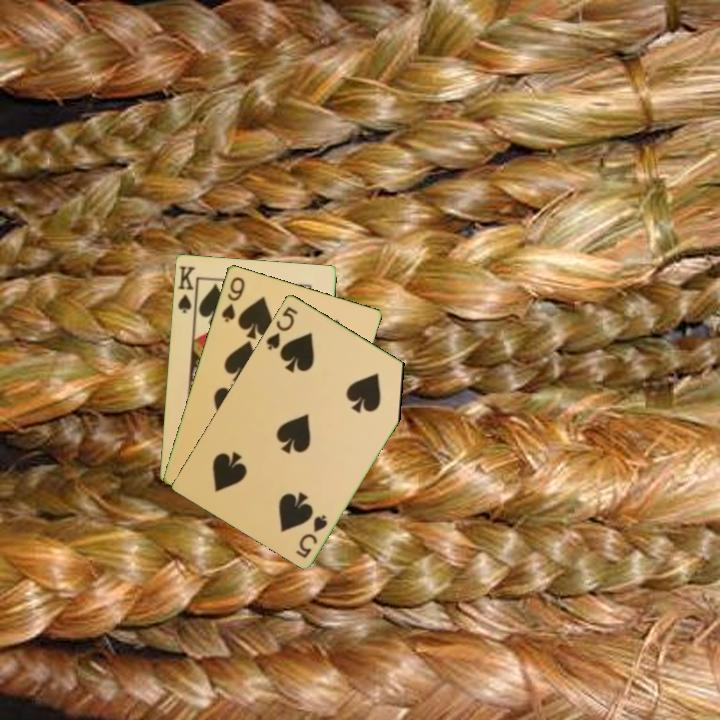5s: (262, 302, 301, 353), (292, 511, 331, 561)
9s: (218, 273, 247, 325)
Ks: (174, 262, 197, 316)
